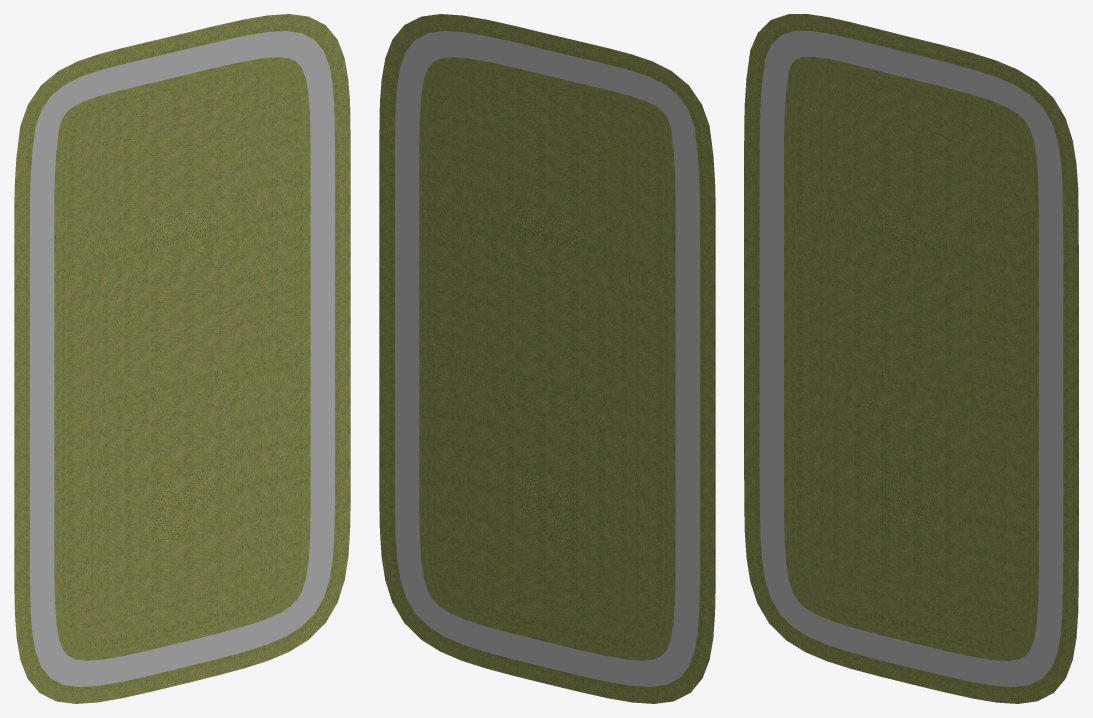
Rendered from RacetrackTwoMesh.fbx.
The picture shows the model from 3 angles, left to right: view 1: azimuth 30°, elevation 25°; view 2: azimuth 150°, elevation 25°; view 3: azimuth 330°, elevation 25°; orthographic projection.
Visible parts, largest first — view 1: BezierCurve.001, BezierCurve; view 2: BezierCurve.001, BezierCurve; view 3: BezierCurve.001, BezierCurve.
Part boxes in pixels (x1,y1,x2,y2): BezierCurve.001: (14,14,350,703); BezierCurve: (30,31,334,686); BezierCurve.001: (379,14,715,703); BezierCurve: (395,31,699,686); BezierCurve.001: (744,14,1078,703); BezierCurve: (759,31,1063,686).
Bounding box in the file's own units: 1478 × 2731 × 0.000564.
